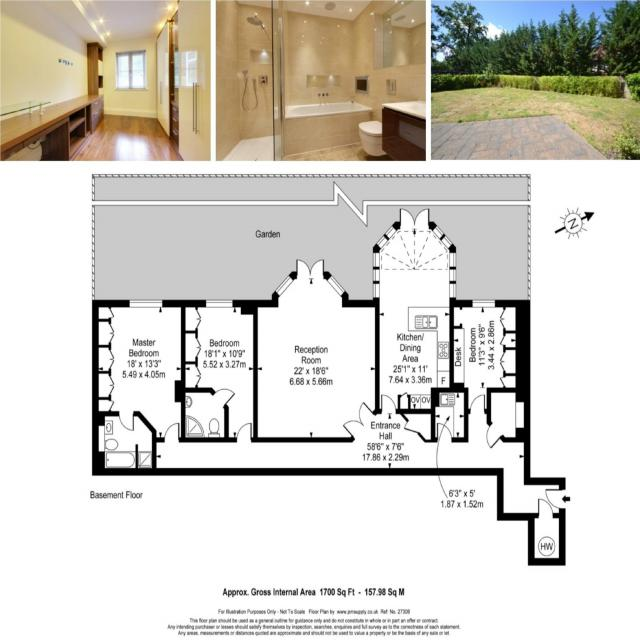DOOR: (210, 388, 236, 409), (485, 422, 503, 449), (545, 488, 566, 510), (468, 393, 487, 414), (379, 393, 397, 414), (235, 422, 253, 443), (117, 410, 135, 431), (163, 422, 181, 442)
DOUBLE DOOR: (341, 399, 377, 440), (399, 207, 431, 231), (296, 257, 325, 279)
ROOM: (253, 258, 380, 444), (372, 206, 456, 414), (92, 299, 187, 443), (180, 299, 259, 443), (449, 299, 530, 415)
WINDOW: (375, 221, 399, 250), (431, 224, 455, 251), (274, 274, 295, 298), (325, 273, 346, 297), (372, 249, 381, 299), (449, 252, 457, 299), (128, 299, 163, 308), (204, 299, 233, 309), (471, 299, 495, 308)
